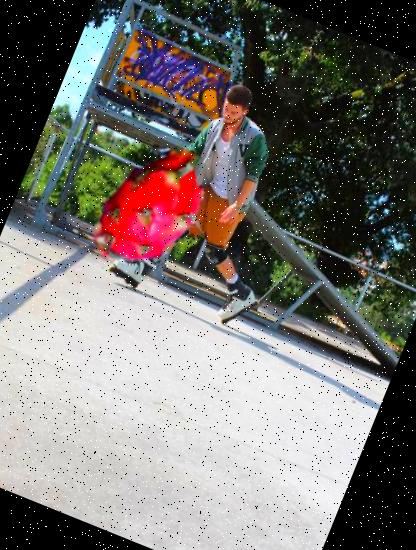Pitahaya: (70, 124, 244, 298)
